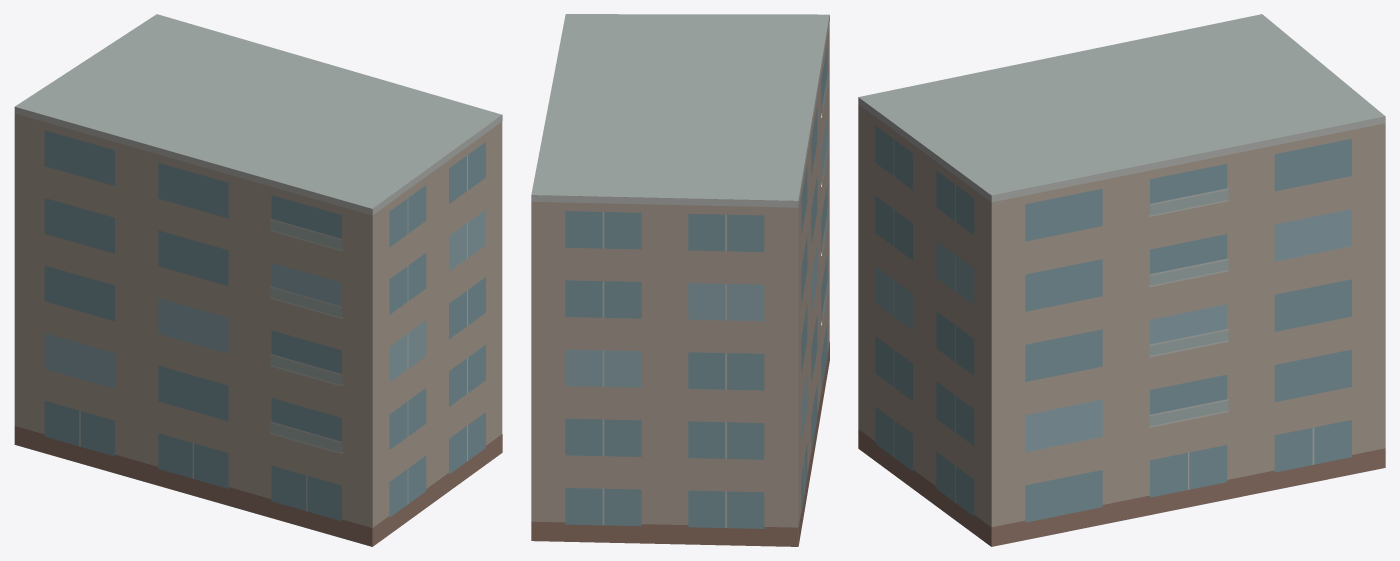
Rendered from survey-upis-32968693.glb.
3 views of the same model, side by side, from view 1: azimuth 30°, elevation 25°; view 2: azimuth 150°, elevation 25°; view 3: azimuth 270°, elevation 25° (orthographic). The views are drawn at different scales.
Visible parts, largest first — view 1: survey-upis-32968693.tmp; view 2: survey-upis-32968693.tmp; view 3: survey-upis-32968693.tmp.
Part boxes in pixels (<box>): survey-upis-32968693.tmp: <box>14,14,502,546</box>; survey-upis-32968693.tmp: <box>531,14,829,546</box>; survey-upis-32968693.tmp: <box>858,14,1385,546</box>.
Size of the model in its own units: 13.74 by 12.4 by 16.87.
